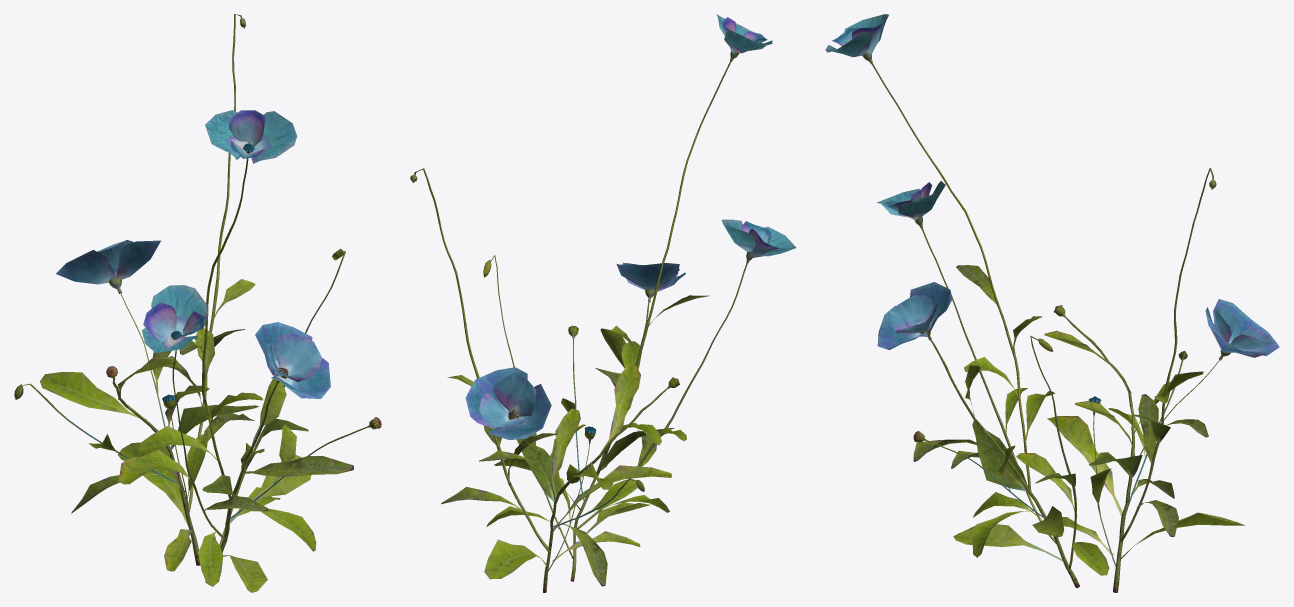
The model's file is Poppy_bush_normal_cyan.glb.
The picture shows the model from 3 angles, left to right: view 1: azimuth 30°, elevation 25°; view 2: azimuth 150°, elevation 25°; view 3: azimuth 270°, elevation 25°; orthographic projection. The views are drawn at different scales.
Parts seen in each view (by area): view 1: bushhhh; view 2: bushhhh; view 3: bushhhh.
Part boxes in pixels (x1=…): bushhhh: x1=14, y1=14, x2=381, y2=592; bushhhh: x1=410, y1=14, x2=796, y2=592; bushhhh: x1=825, y1=14, x2=1279, y2=592.
Size of the model in its own units: 2.3 by 4.57 by 3.53.
Materials: 1 (1 with a texture image).
